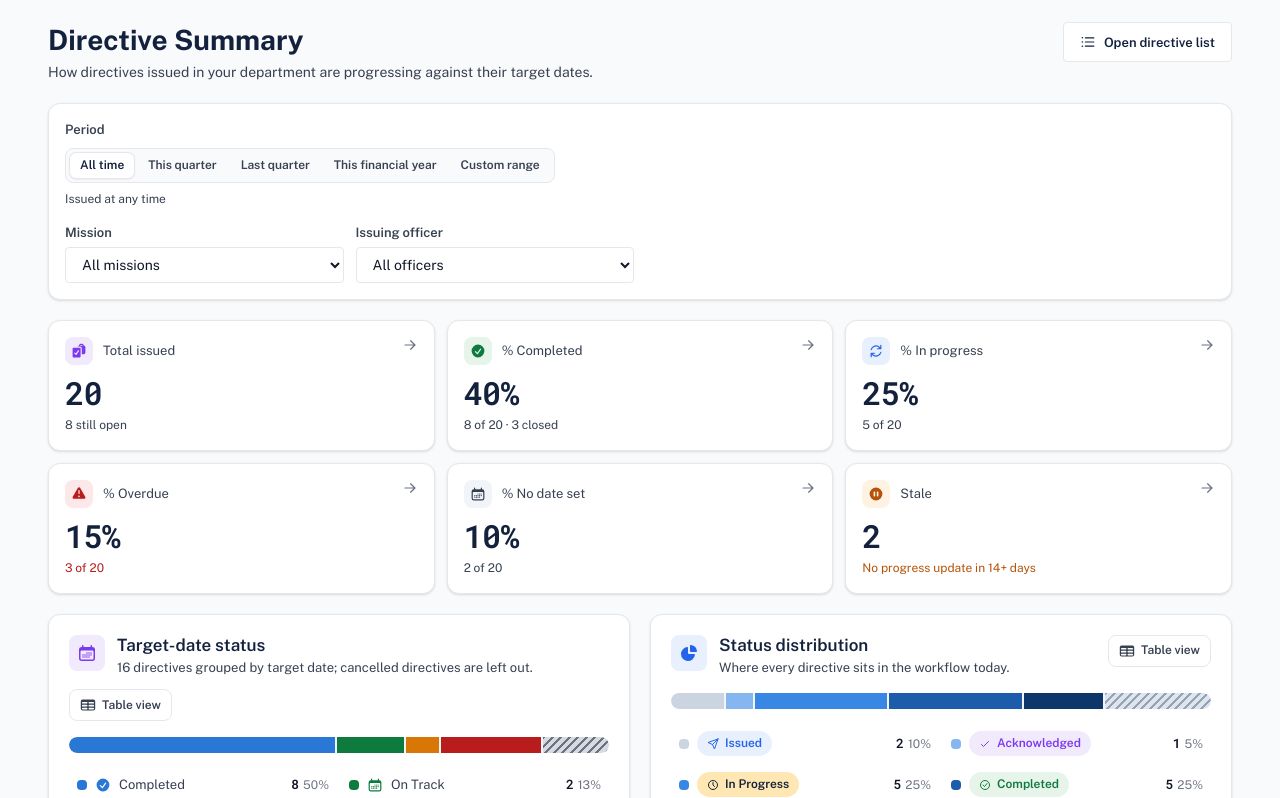
it: DirectiveSummaryPage › TC-FR-DIR-003: groups directives by target date with a link per group
What coordinates should you click on to do the following:
click the button "Table view" below "Target-date status"
I would click on:
 (120, 705)
Its box is [69,689,172,721].
(page scrolled)
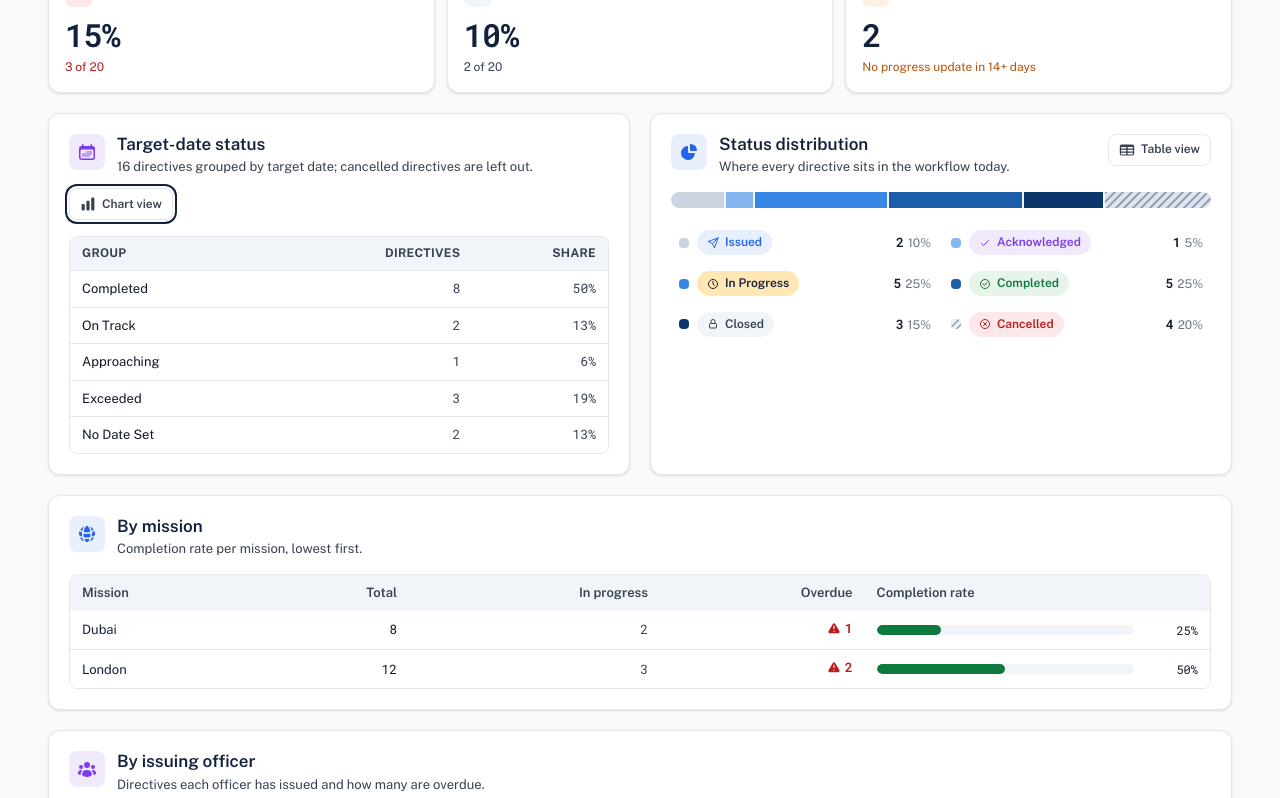
Now the row "Exceeded" shows "3", box [452,389,460,407]
